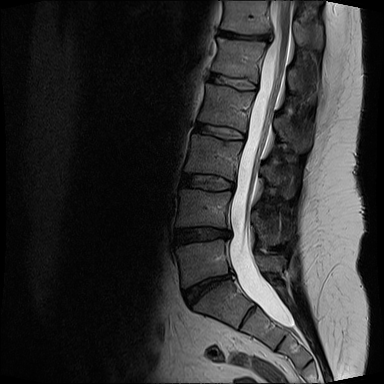Lumbar Disc Bulge (LDB): (173, 264, 240, 312), (166, 215, 240, 252), (174, 171, 243, 192)
Normal IVD: (184, 117, 249, 147), (200, 67, 260, 95)
Spinal Stenosis (SS): (238, 18, 290, 58), (208, 217, 247, 251)
Thoracic Disc Bulge (TDB): (211, 19, 277, 46)
